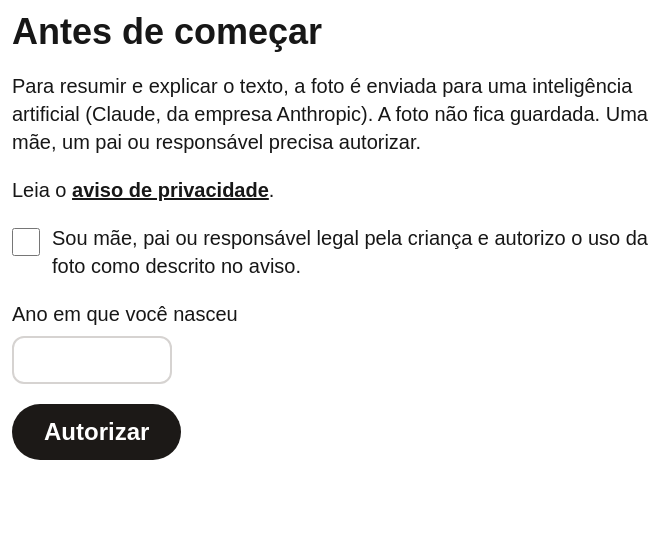
Test: AdultGate › requires a birth year of an adult
Click the checkbox labelled "responsável legal" at point(26, 242), box top-left (12, 228), bottom-right (40, 256)
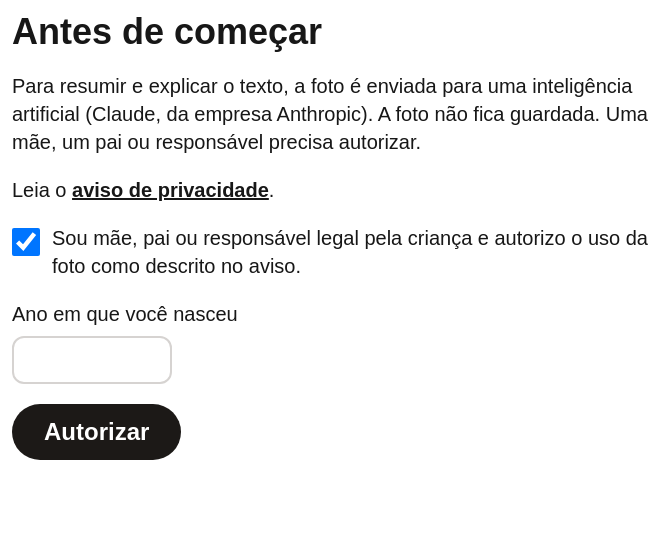
Type "2015" into the field labelled "Ano em que você nasceu" at point(92, 360), box top-left (12, 336), bottom-right (172, 384)
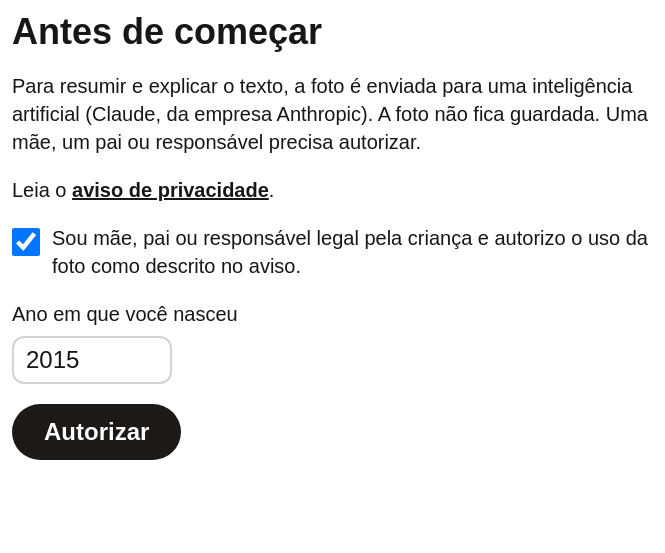
Click the button "Autorizar" at point(97, 432), box top-left (12, 404), bottom-right (181, 460)
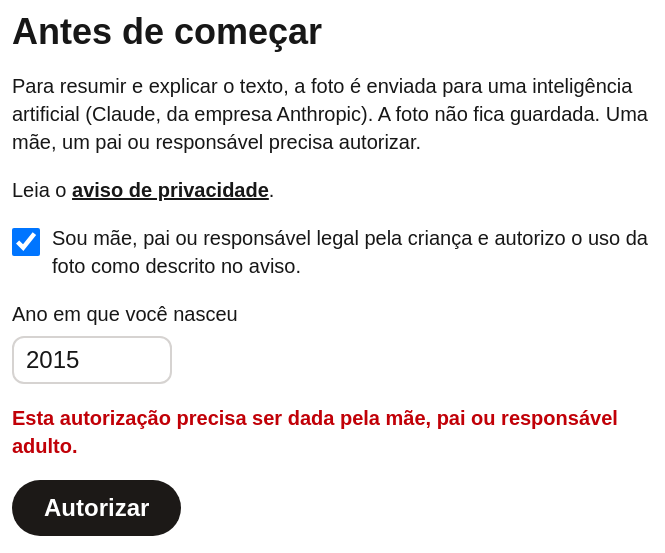
Now the message shows "mãe, pai ou responsável", box top-left (12, 407), bottom-right (618, 457)
